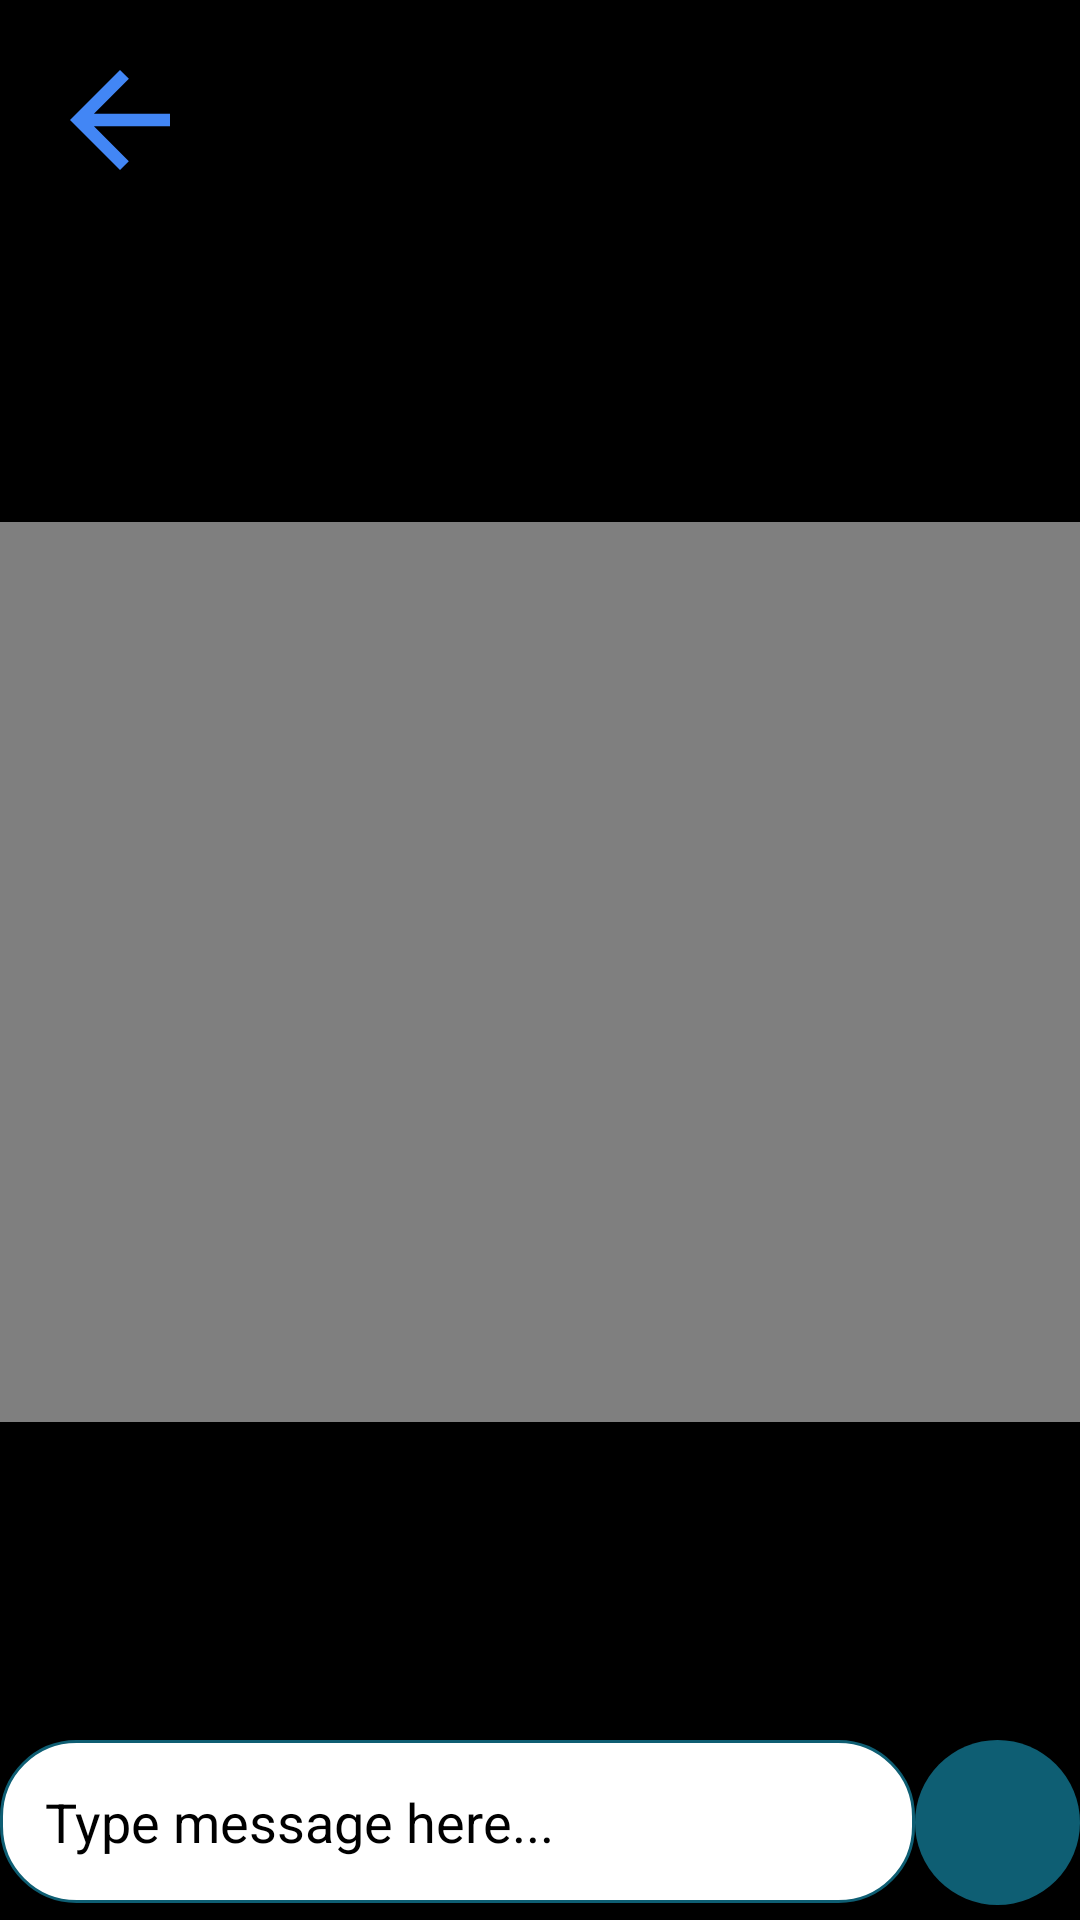

Named icons in this screenshot (1080 x 1920) and their centers, (x,y):
back button: (120,120)
